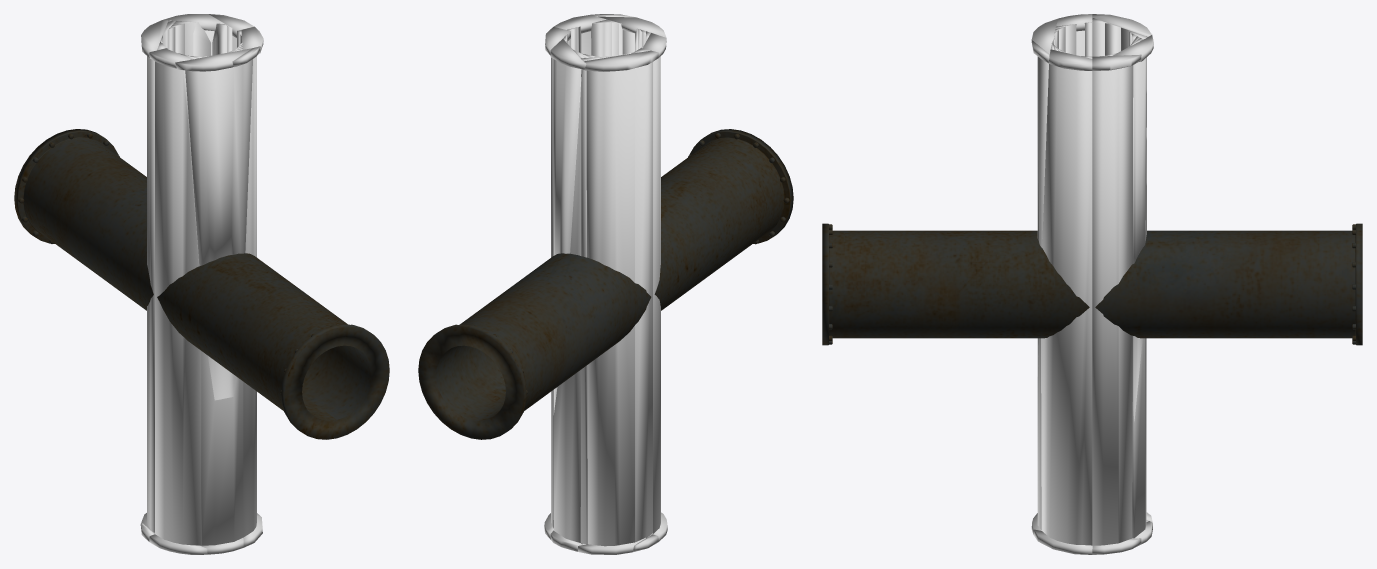
The model's file is SM_Pipes_Small_Basic.fbx.
3 renders of one model, left to right at view 1: azimuth 30°, elevation 25°; view 2: azimuth 150°, elevation 25°; view 3: azimuth 270°, elevation 25°, orthographic.
Visible parts, largest first — view 1: SM_Pipes_Small_Basic_ConvexHulls, SM_Pipes_Small_Basic; view 2: SM_Pipes_Small_Basic_ConvexHulls, SM_Pipes_Small_Basic; view 3: SM_Pipes_Small_Basic_ConvexHulls, SM_Pipes_Small_Basic.
Part boxes in pixels (<box>): SM_Pipes_Small_Basic_ConvexHulls: <box>140,14,263,554</box>; SM_Pipes_Small_Basic: <box>14,129,389,439</box>; SM_Pipes_Small_Basic_ConvexHulls: <box>544,14,667,554</box>; SM_Pipes_Small_Basic: <box>418,129,793,439</box>; SM_Pipes_Small_Basic_ConvexHulls: <box>1031,14,1153,554</box>; SM_Pipes_Small_Basic: <box>822,223,1362,345</box>.
Size of the model in its own units: 0.2251 by 1 by 1.
